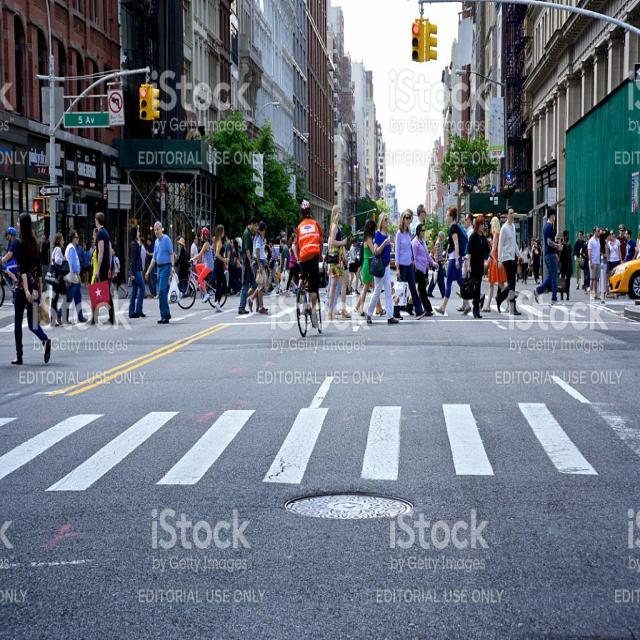body: (8, 209, 54, 367), (432, 204, 472, 317), (389, 209, 427, 322), (362, 210, 398, 327), (459, 213, 497, 320), (294, 198, 324, 330), (144, 218, 180, 324), (84, 210, 116, 327), (404, 223, 438, 318), (56, 227, 88, 327), (480, 214, 512, 312), (495, 205, 523, 316), (326, 202, 352, 321), (533, 204, 563, 307), (358, 217, 388, 318), (244, 219, 270, 315), (240, 215, 264, 313), (238, 214, 260, 316), (456, 210, 476, 314), (189, 225, 214, 303), (127, 223, 147, 320), (48, 229, 69, 312), (0, 226, 21, 307), (400, 208, 416, 314), (325, 225, 343, 317), (211, 222, 228, 314), (427, 230, 448, 299), (586, 224, 602, 302), (108, 245, 130, 301), (607, 228, 624, 299), (558, 228, 574, 301), (262, 237, 280, 296), (284, 232, 300, 294), (174, 236, 188, 298), (573, 229, 586, 291), (146, 234, 158, 299), (278, 238, 291, 296), (348, 234, 360, 296), (581, 232, 593, 294), (580, 233, 592, 293), (598, 232, 608, 302), (38, 234, 49, 294), (519, 238, 532, 286), (190, 232, 200, 292), (622, 228, 639, 263), (529, 237, 543, 278), (224, 232, 234, 289), (412, 204, 427, 242), (616, 223, 628, 264), (90, 227, 98, 285), (531, 240, 542, 282), (278, 231, 288, 274), (88, 238, 97, 284), (76, 244, 85, 284), (83, 241, 91, 285), (356, 240, 363, 289), (139, 237, 147, 272), (231, 238, 240, 268), (324, 243, 328, 286), (173, 236, 180, 258), (636, 223, 640, 261), (354, 296, 361, 315), (604, 228, 611, 243), (210, 234, 216, 250)
